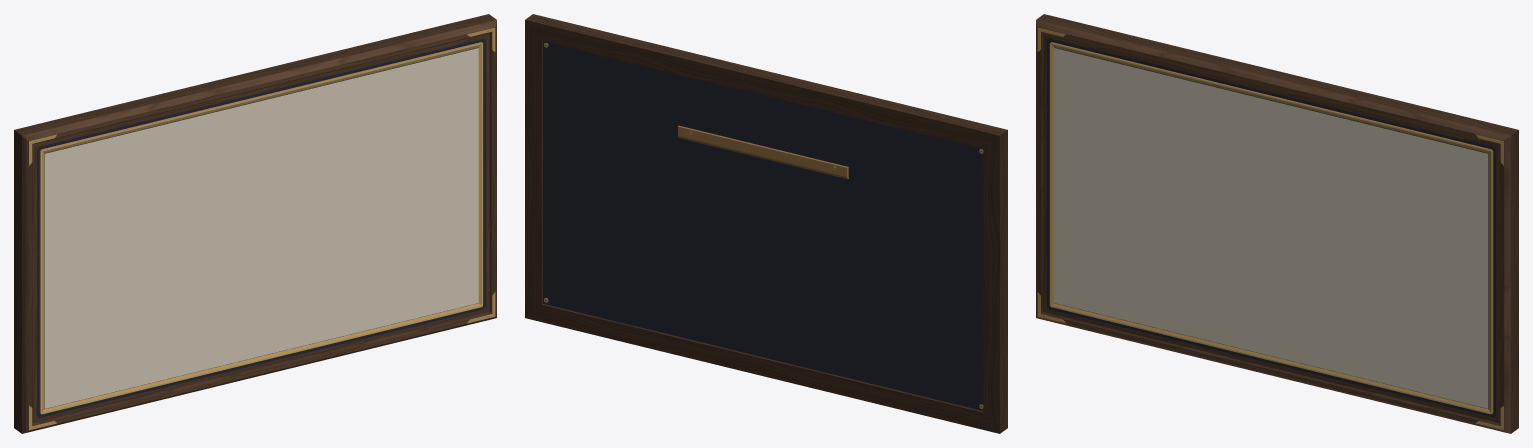
The model's file is room-plaque-stand.glb.
The picture shows the model from 3 angles, left to right: view 1: azimuth 30°, elevation 25°; view 2: azimuth 150°, elevation 25°; view 3: azimuth 330°, elevation 25°; orthographic projection.
Parts seen in each view (by area): view 1: Plaque_Face, Plaque_Frame, Plaque_Brass, Plaque_Back; view 2: Plaque_Back, Plaque_Frame, Plaque_Brass; view 3: Plaque_Face, Plaque_Frame, Plaque_Brass, Plaque_Back.
Part boxes in pixels (<box>): Plaque_Face: <box>44,48,478,408</box>; Plaque_Frame: <box>14,14,496,433</box>; Plaque_Brass: <box>29,27,495,430</box>; Plaque_Back: <box>37,38,485,417</box>; Plaque_Back: <box>543,41,983,410</box>; Plaque_Frame: <box>525,14,1007,433</box>; Plaque_Brass: <box>544,43,983,408</box>; Plaque_Face: <box>1054,48,1488,408</box>; Plaque_Frame: <box>1036,14,1518,433</box>; Plaque_Brass: <box>1037,27,1503,430</box>; Plaque_Back: <box>1047,38,1495,417</box>.
Size of the model in its own units: 0.6 by 0.36 by 0.024.
4 materials, 1 textured.
